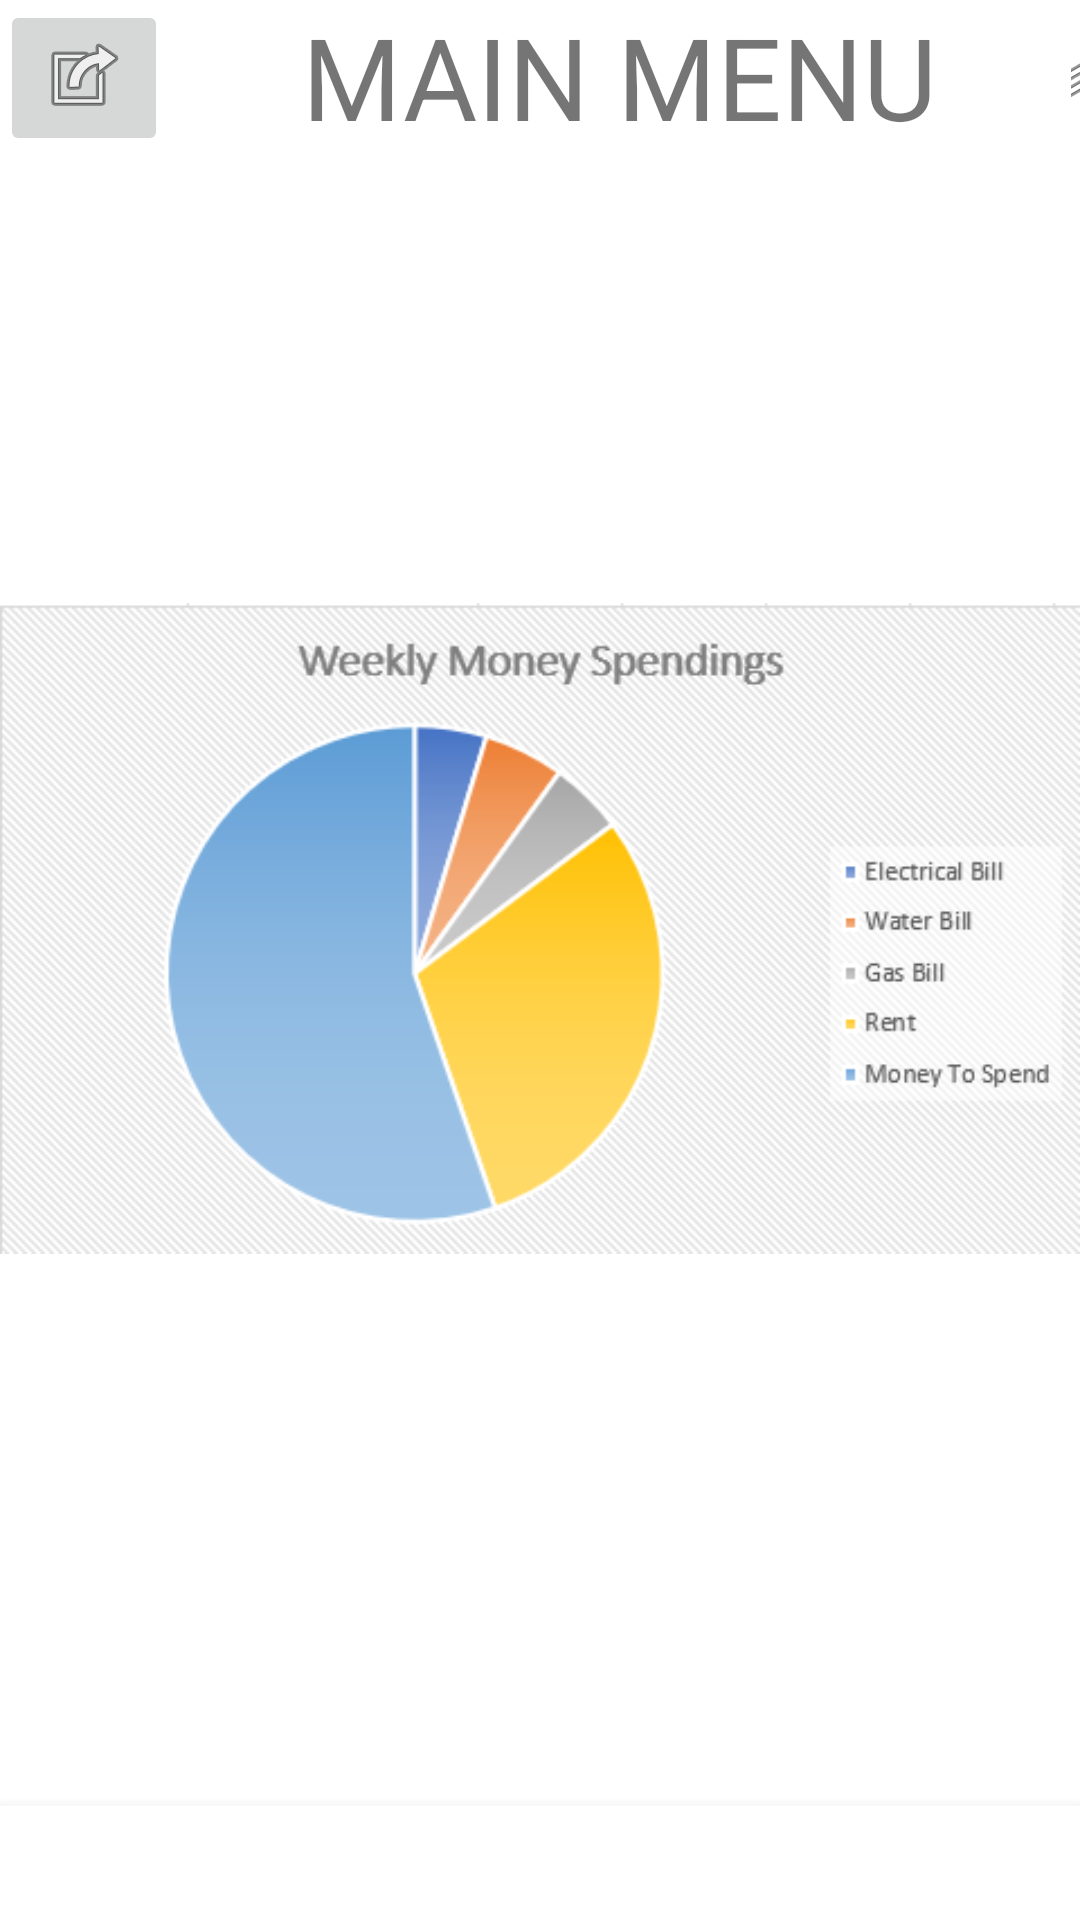

Screen size 1080x1920. Icon name, then its box in pixels as (x1, y1, x2, y2):
set as: (12, 18, 156, 138)
